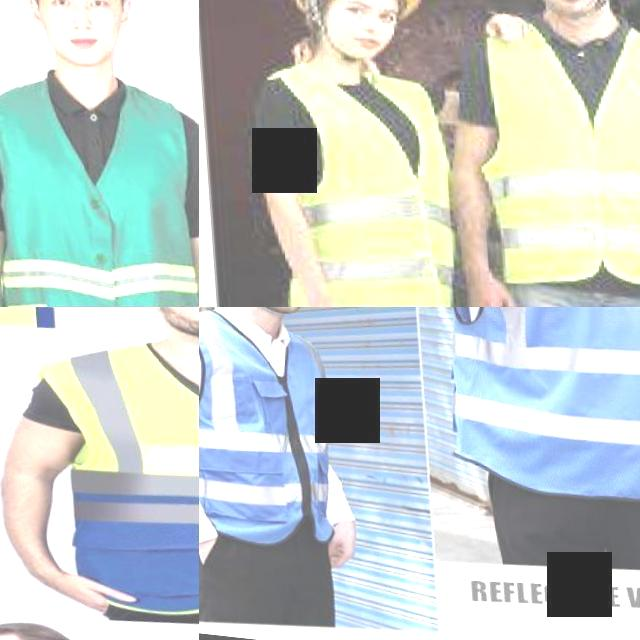vest: (481, 12, 640, 307), (0, 89, 199, 307), (290, 71, 458, 307), (66, 342, 199, 640), (451, 307, 640, 508), (199, 316, 338, 568)
